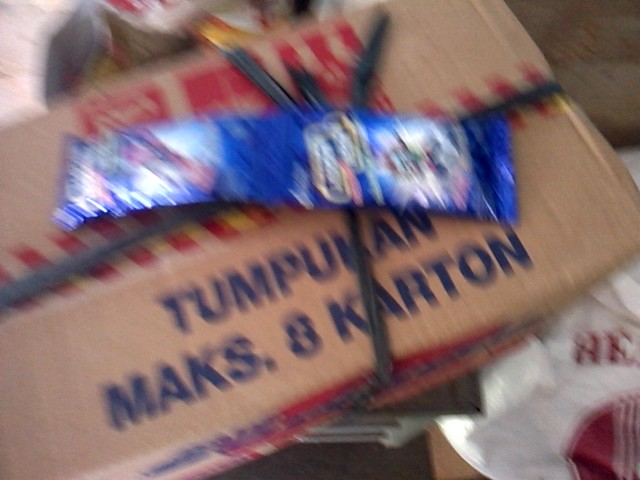jagoan neon: (264, 111, 519, 224)
